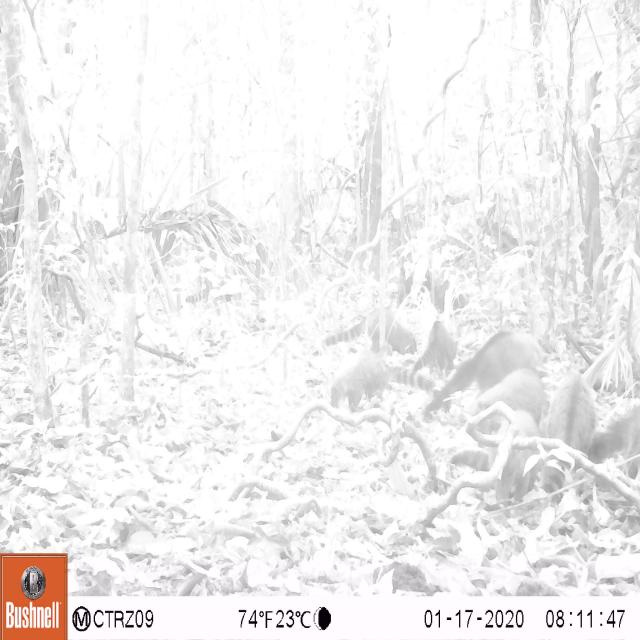South American Coati: (419, 327, 556, 420), (451, 410, 546, 508), (548, 367, 603, 505), (322, 298, 419, 359), (324, 360, 434, 412), (471, 362, 549, 428), (421, 306, 458, 383)
